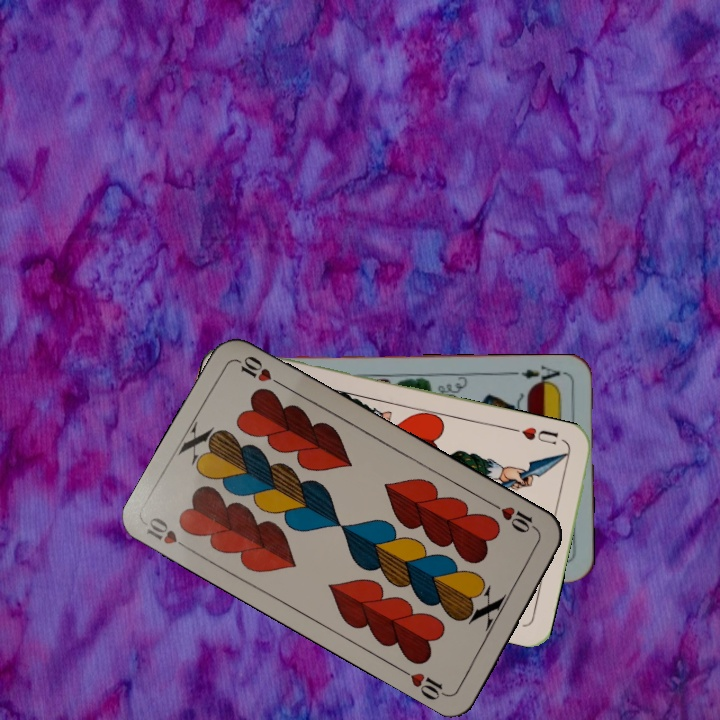EA: (517, 361, 567, 388)
H10: (142, 513, 195, 555), (488, 499, 542, 536)
HU: (517, 423, 561, 448)
